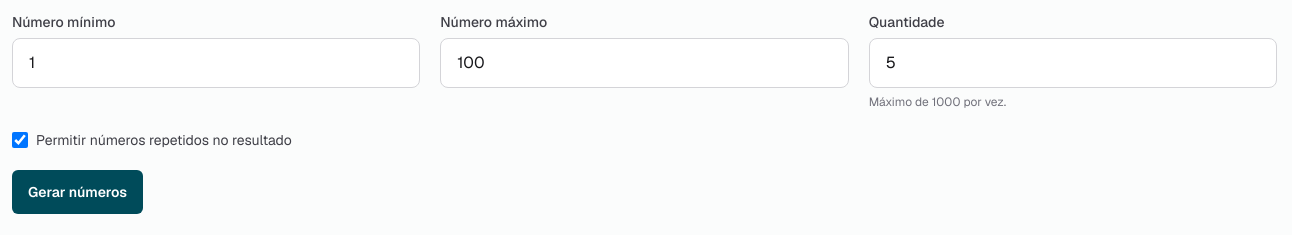
Test: RandomNumberGeneratorTool › mostra erro quando o máximo é menor que o mínimo
Type "10" into the field labelled "Número mínimo".
click(216, 63); type("10")  # box [12,38,420,88]
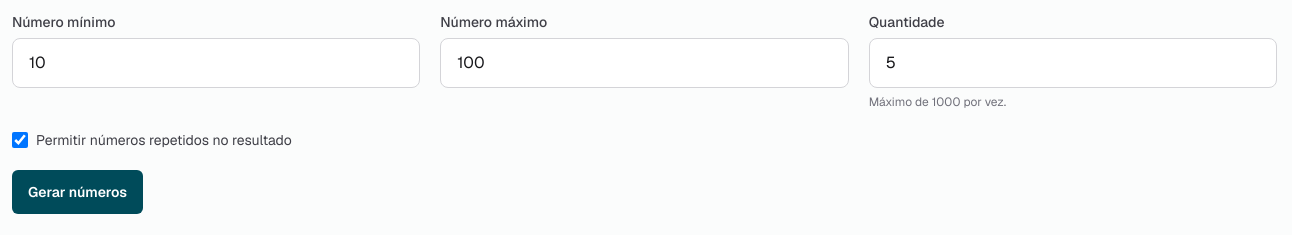
Type "1" into the field labelled "Número máximo".
click(644, 63); type("1")  # box [440,38,849,88]
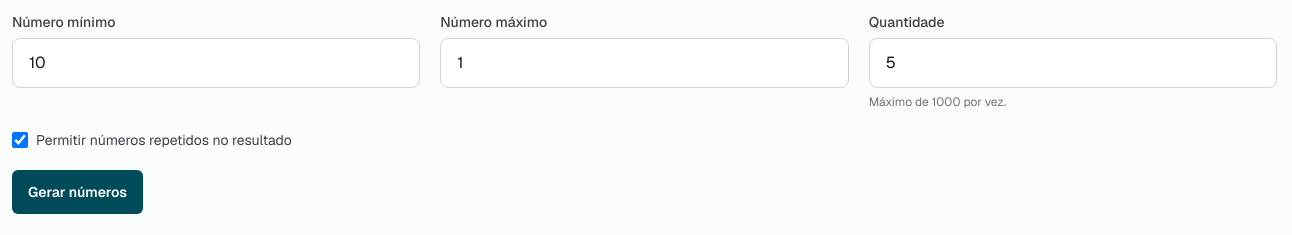
Click the button "Gerar números".
click(78, 192)  # box [12,170,143,214]
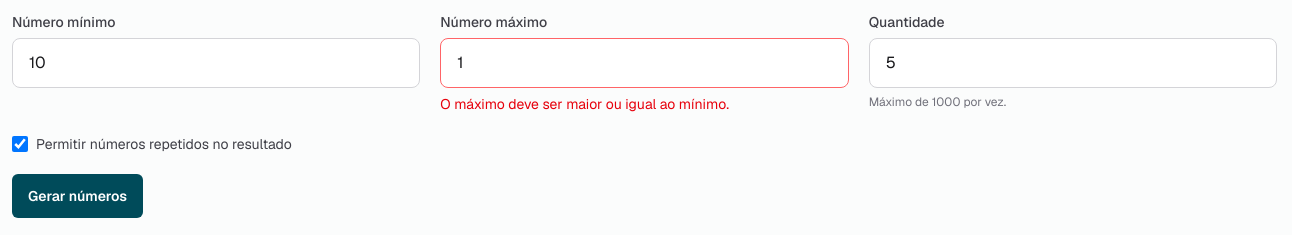
Expected: the text "O máximo deve ser maior ou igual ao mínimo." is shown, [440,95,729,113]
